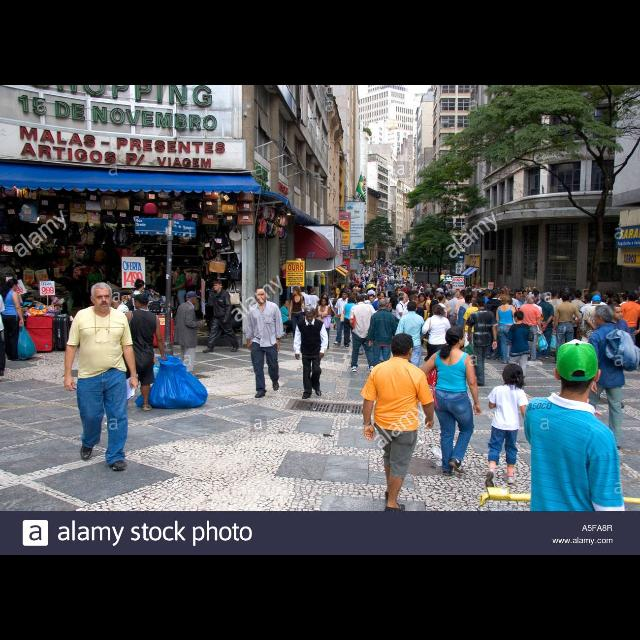head: (553, 342, 603, 388), (90, 282, 114, 314), (390, 333, 414, 361), (593, 305, 613, 327), (503, 364, 523, 386), (446, 326, 466, 348), (134, 294, 150, 312), (609, 304, 623, 320), (256, 288, 268, 304), (186, 292, 198, 306), (305, 308, 317, 322), (256, 289, 266, 305), (407, 302, 419, 314), (432, 304, 443, 316), (8, 279, 18, 291), (354, 294, 366, 304), (476, 296, 486, 308), (514, 311, 524, 323), (378, 300, 388, 310), (400, 293, 410, 303), (526, 295, 536, 305), (592, 295, 602, 305), (628, 292, 638, 302), (550, 288, 560, 298), (136, 280, 144, 292), (214, 280, 222, 292), (502, 294, 511, 304), (409, 296, 418, 306), (483, 288, 492, 298), (292, 286, 300, 296), (540, 294, 548, 304), (562, 292, 570, 302), (378, 292, 386, 302), (574, 290, 582, 300), (492, 290, 501, 298), (176, 267, 184, 275), (320, 298, 328, 306), (299, 286, 307, 294), (418, 294, 426, 302), (466, 296, 474, 304), (454, 291, 461, 299), (342, 292, 348, 300), (349, 296, 355, 304), (90, 266, 96, 274), (433, 292, 441, 298), (284, 302, 290, 308), (322, 294, 328, 300), (310, 289, 316, 295), (472, 301, 478, 307), (153, 269, 157, 273)
person: (61, 282, 141, 474), (359, 330, 436, 522), (112, 292, 208, 413), (416, 325, 482, 479), (584, 304, 628, 454), (483, 362, 532, 493), (244, 288, 286, 400), (245, 288, 285, 400), (172, 290, 208, 392), (122, 276, 160, 370), (292, 305, 328, 401), (601, 301, 637, 397), (394, 300, 428, 394), (465, 294, 499, 388), (201, 278, 241, 356), (1, 278, 36, 362), (421, 304, 453, 392), (367, 298, 401, 380), (580, 294, 612, 374), (505, 308, 537, 386), (348, 294, 379, 374), (494, 292, 524, 366), (552, 291, 582, 365), (514, 294, 546, 362), (543, 287, 567, 358), (484, 288, 506, 364), (566, 288, 588, 362), (534, 293, 556, 361), (454, 294, 478, 351), (371, 290, 392, 350), (461, 298, 484, 352), (288, 286, 308, 348), (167, 266, 189, 322), (85, 265, 105, 325), (312, 297, 333, 353), (332, 291, 352, 347), (394, 292, 412, 354), (316, 292, 338, 342), (342, 296, 361, 350), (293, 285, 313, 335), (413, 292, 433, 342), (402, 294, 421, 346), (446, 290, 464, 342), (478, 288, 496, 340), (279, 300, 299, 336), (304, 286, 322, 322), (428, 290, 444, 330), (149, 264, 161, 296)
